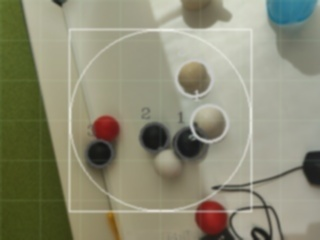Pelota blanca: (273, 3, 320, 76), (175, 59, 215, 100), (189, 103, 230, 142), (179, 0, 232, 30), (153, 149, 182, 178)
Pelota negra: (265, 0, 319, 27), (171, 127, 205, 160), (139, 121, 170, 154), (85, 139, 114, 168), (301, 149, 320, 189), (51, 0, 68, 6)
Pelota roja: (193, 209, 229, 234), (91, 113, 121, 142), (195, 199, 225, 213)
